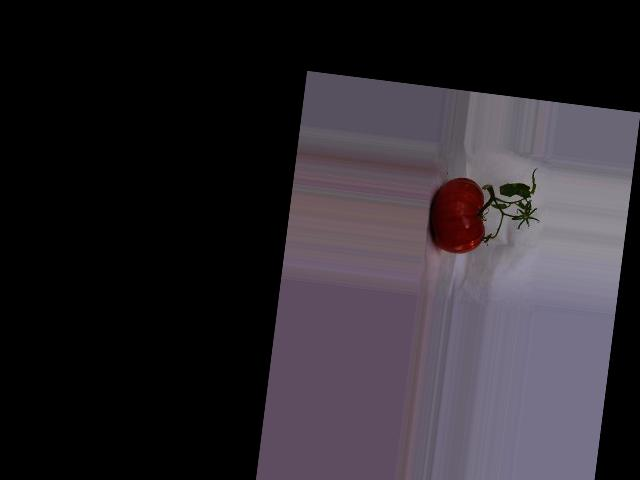tomato: (425, 173, 491, 256)
